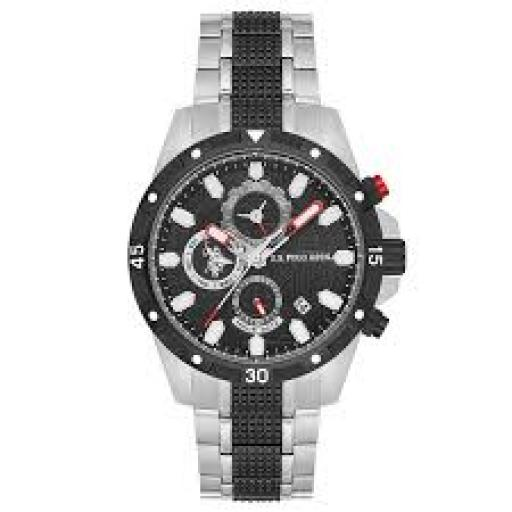KolSaati: (129, 6, 408, 512)
